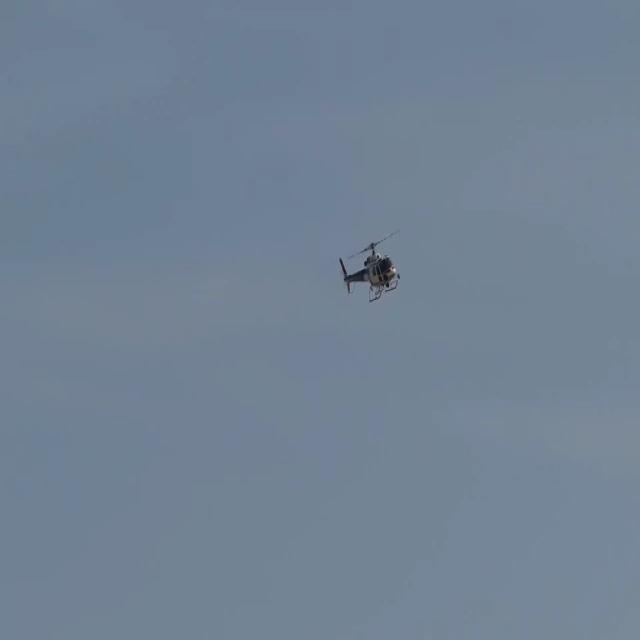Helicopter: (320, 210, 424, 315)
